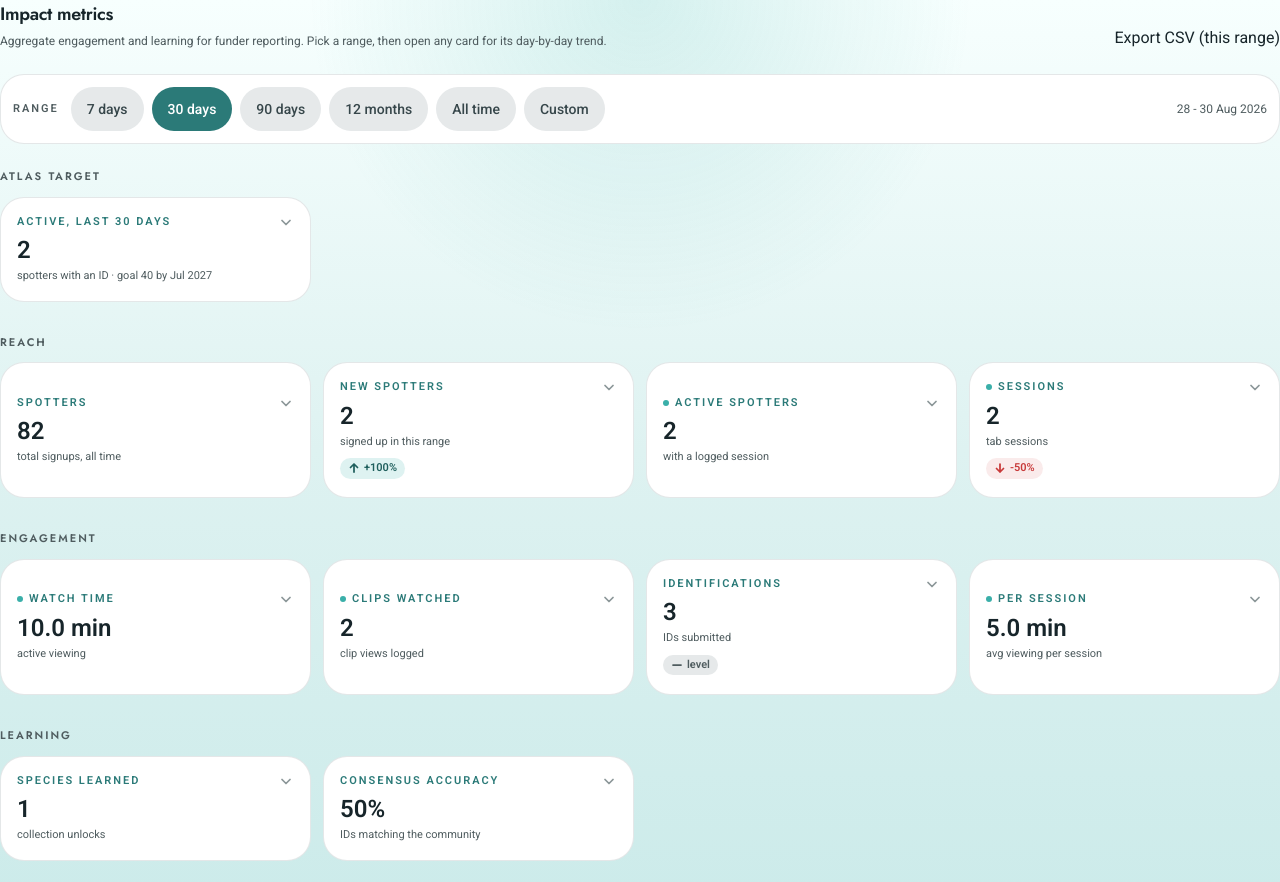
it: MetricsDashboard cards › warns inside the panel when the bars deliberately over-add
This screenshot has width=1280, height=882.
Click the button "Active spotters 2 with a logged session" at (737, 402), box [646,362,957,498]
(page scrolled)
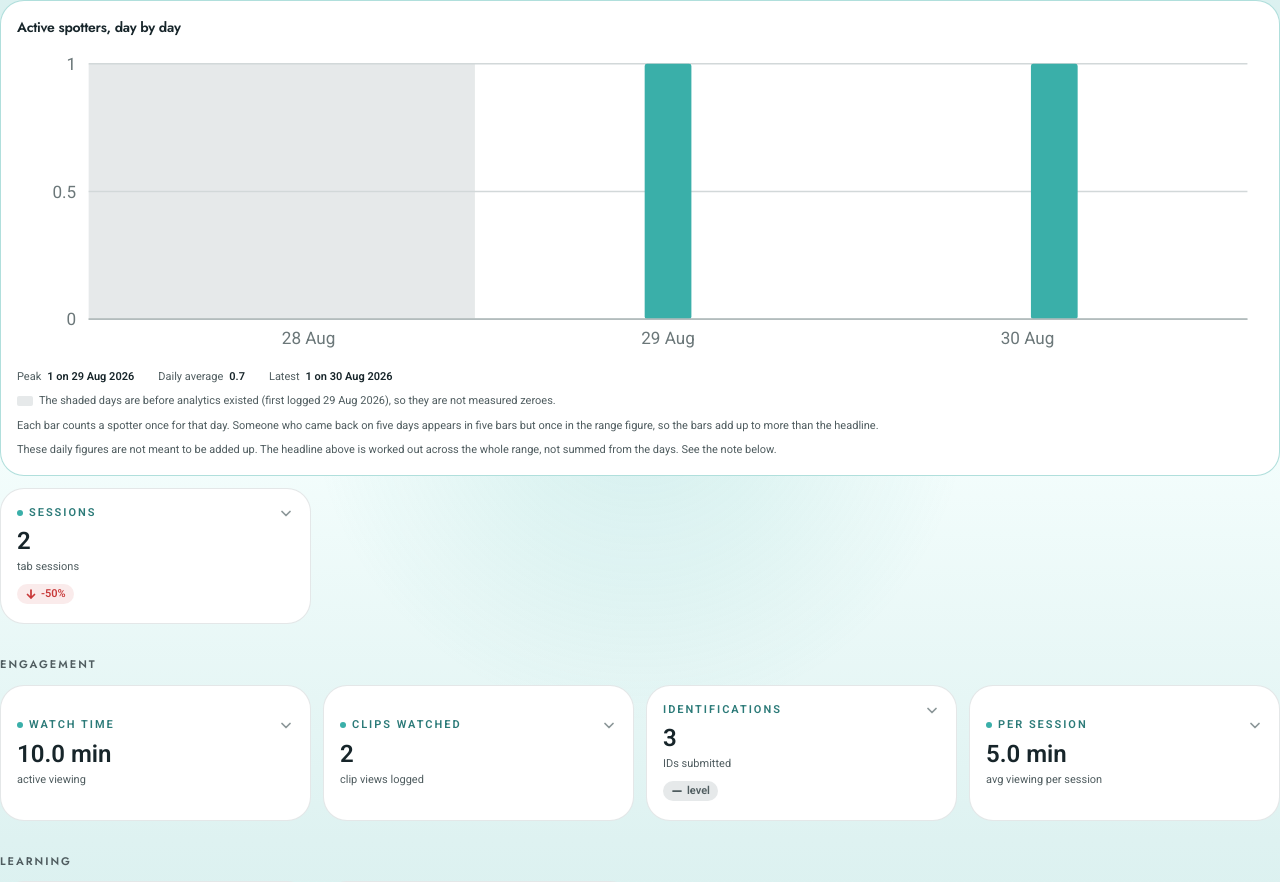
Expected: the text "not meant to be added up" is shown, [17,443,776,456]
